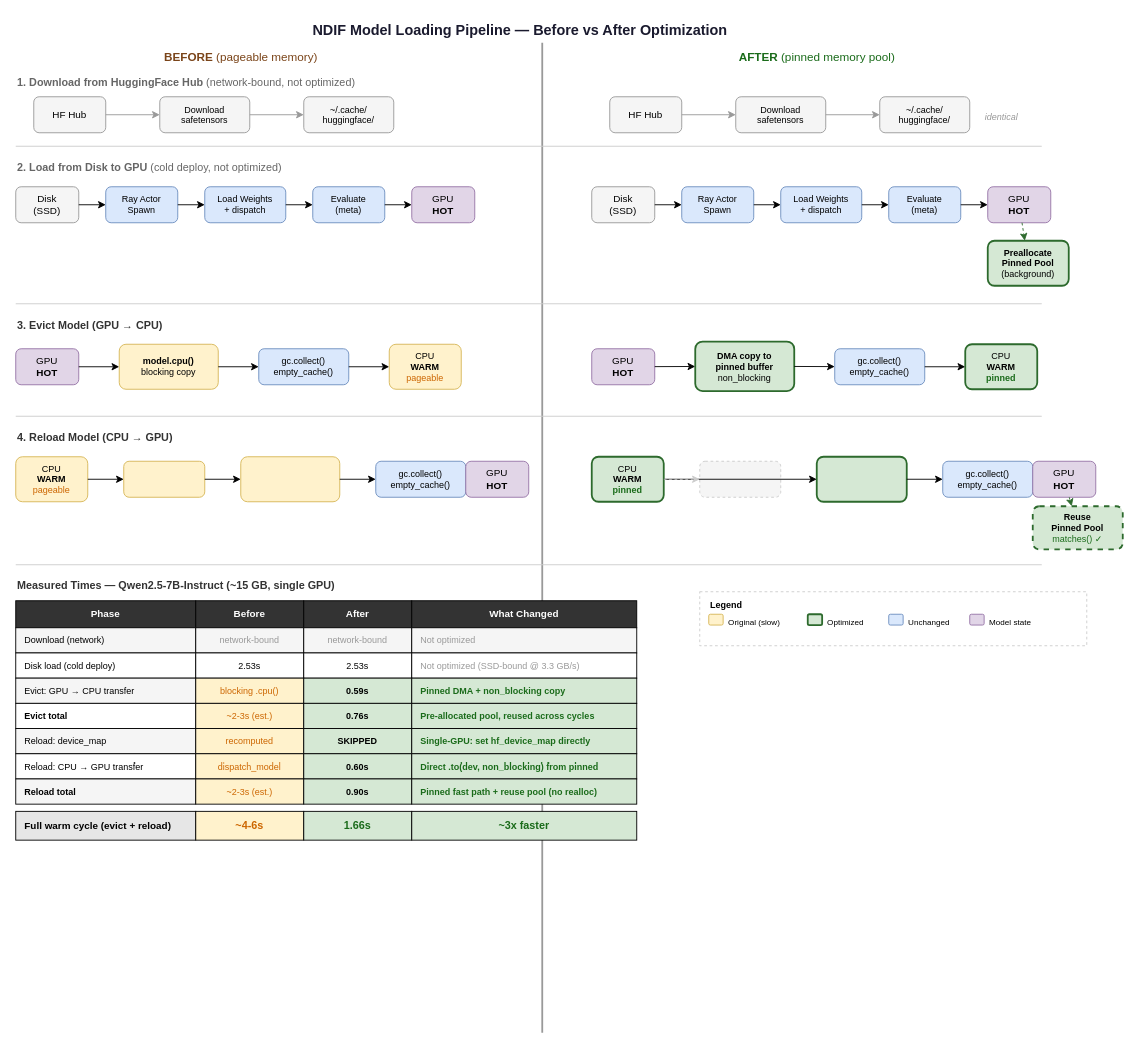
Image size: 1139x1049. Some labels were removed from this diagram. The centre of each missing label's shape, as x and y in pixels:
".to(gpu, non_blocking)" goes at (x=861, y=478).
"Compute device_map" goes at (x=164, y=478).
"device_map SKIPPED" goes at (x=740, y=478).
"dispatch_model() blocking .to()" goes at (x=290, y=479).
